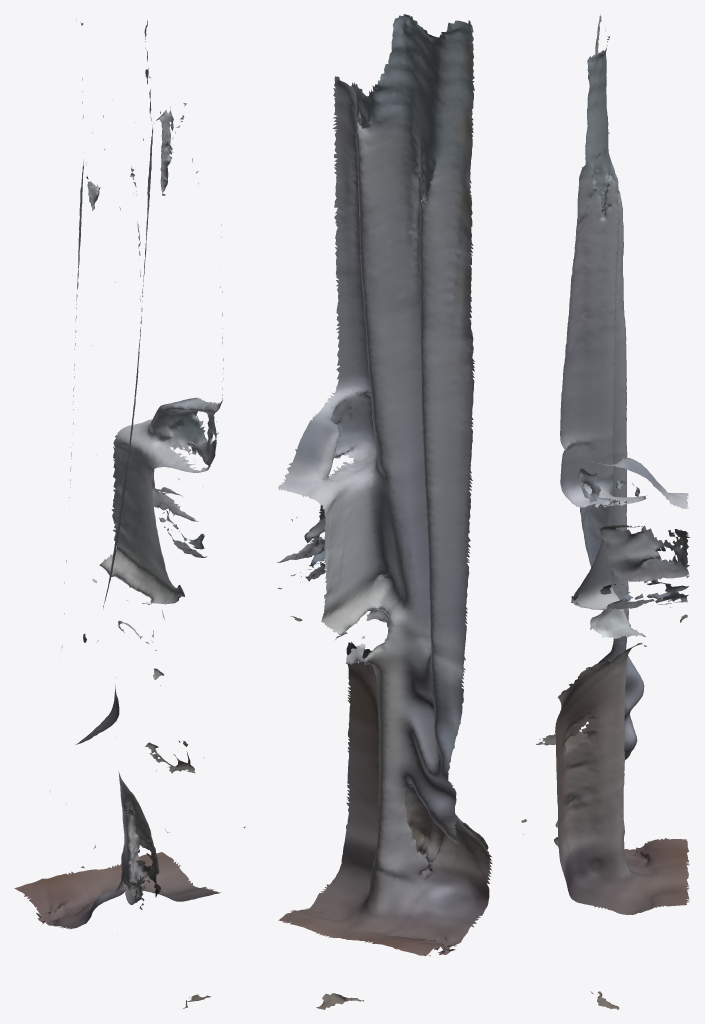
The model's file is apartment-full-103-46f0c30c002a.glb.
The picture shows the model from 3 angles, left to right: view 1: azimuth 30°, elevation 25°; view 2: azimuth 150°, elevation 25°; view 3: azimuth 270°, elevation 25°; orthographic projection. The views are drawn at different scales.
Size of the model in its own units: 0.406 by 2.59 by 0.426.
